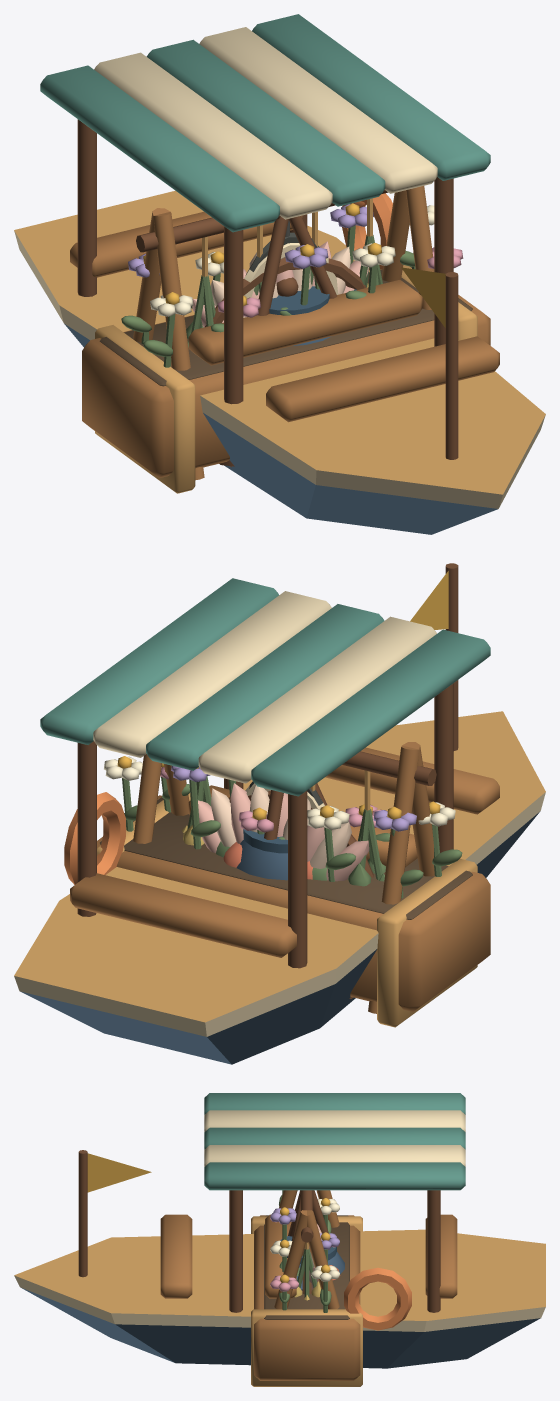
Rendered from crafts.glb.
3 views of the same model, one above another, from view 1: azimuth 30°, elevation 25°; view 2: azimuth 150°, elevation 25°; view 3: azimuth 270°, elevation 25° (orthographic). The views are drawn at different scales.
Visible parts, largest first — view 1: village_ferry, f_meadow_box, f_herb_rack, f_camp_kettle, f_shell_lamp, f_picnic_basket; view 2: village_ferry, f_meadow_box, f_herb_rack, f_shell_lamp, f_camp_kettle, f_picnic_basket; view 3: village_ferry, f_meadow_box, f_herb_rack, f_camp_kettle.
Part boxes in pixels (x1,y1,x2,y2): village_ferry: [14, 14, 545, 534]; f_meadow_box: [82, 203, 490, 493]; f_herb_rack: [133, 186, 434, 480]; f_camp_kettle: [249, 216, 356, 345]; f_shell_lamp: [192, 241, 368, 327]; f_picnic_basket: [205, 257, 366, 327]; village_ferry: [14, 563, 545, 1064]; f_meadow_box: [97, 756, 490, 1027]; f_herb_rack: [133, 742, 436, 1013]; f_shell_lamp: [198, 783, 369, 881]; f_camp_kettle: [236, 781, 327, 880]; f_picnic_basket: [223, 790, 373, 879]; village_ferry: [14, 1093, 545, 1368]; f_meadow_box: [251, 1190, 362, 1386]; f_herb_rack: [274, 1190, 339, 1309]; f_camp_kettle: [280, 1190, 344, 1290].
Bounding box in the file's own units: 1.42 × 1.21 × 2.85.
